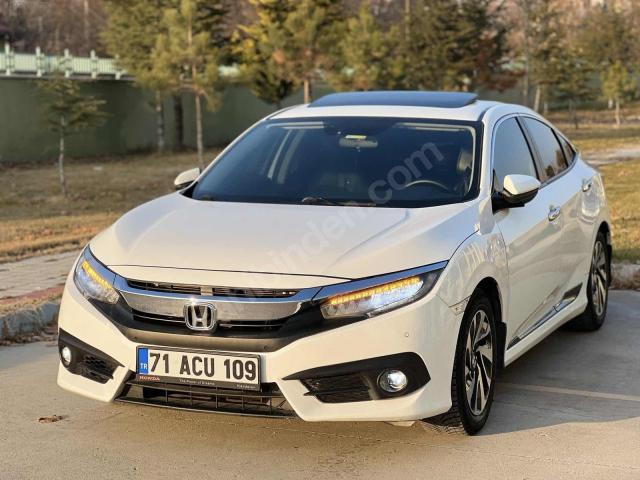plaka: (138, 349, 258, 384)
